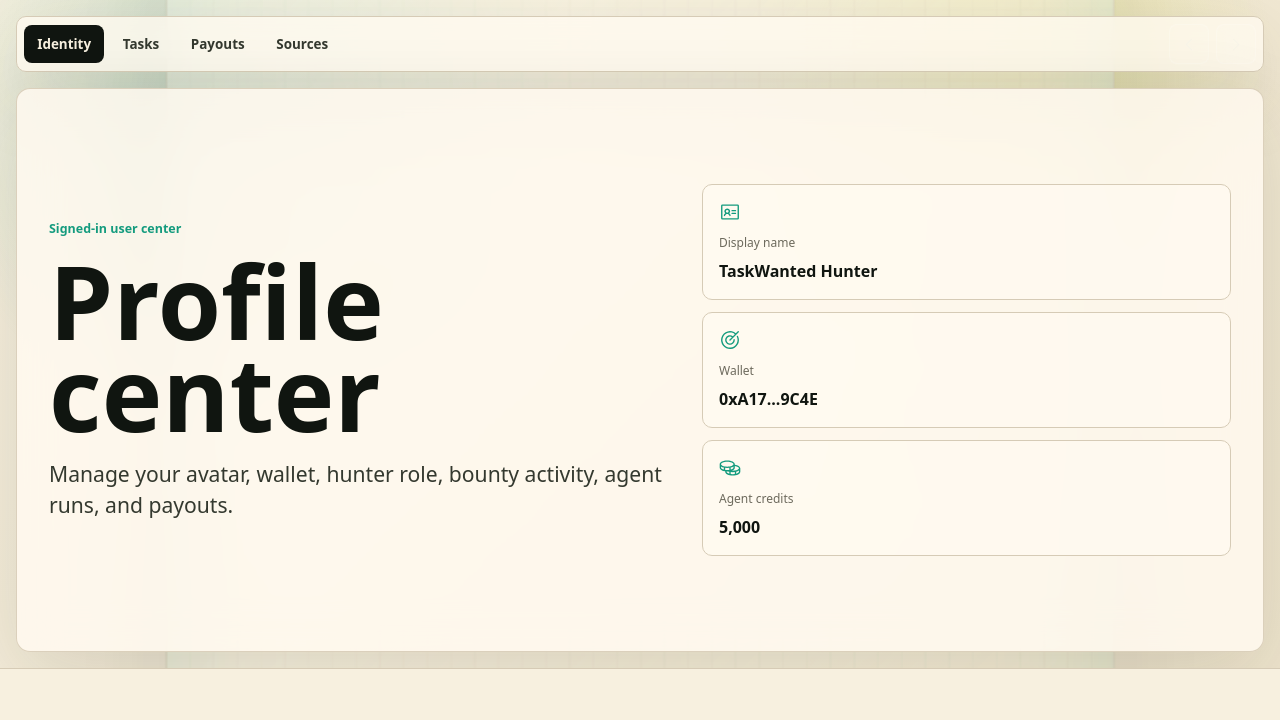
it: Profile page › renders the signed-in user center with task and agent records
This screenshot has width=1280, height=720.
Expected: the heading "Profile center" is shown, x1=49 y1=231 x2=384 y2=462
Step 1. Click the tab "Tasks" → coordinates (141, 44), box x1=110 y1=25 x2=172 y2=63
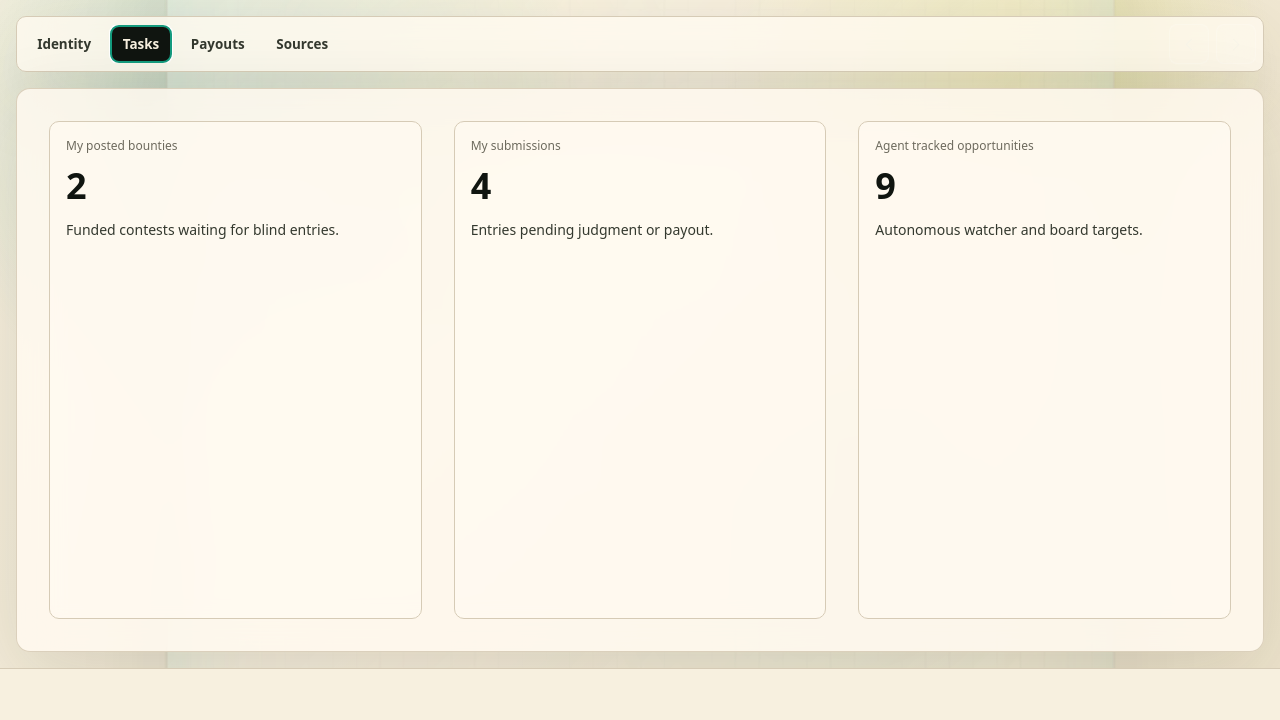
Expected: the text "My posted bounties" is shown, x1=66 y1=137 x2=178 y2=154
Expected: the text "Agent tracked opportunities" is shown, x1=875 y1=137 x2=1034 y2=154
Step 2. Click the tab "Payouts" → coordinates (218, 44), box x1=178 y1=25 x2=258 y2=63
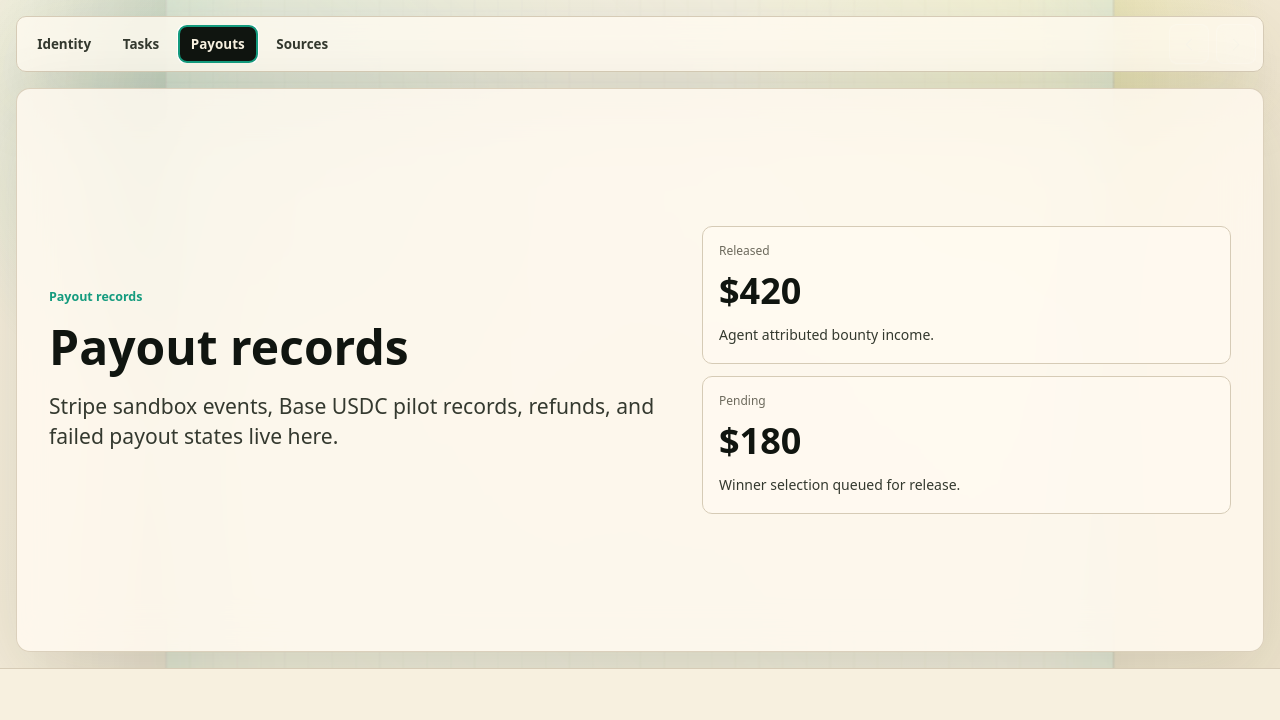
Expected: the heading "Payout records" is shown, x1=49 y1=314 x2=409 y2=379
Step 3. Click the tab "Sources" → coordinates (302, 44), box x1=263 y1=25 x2=341 y2=63
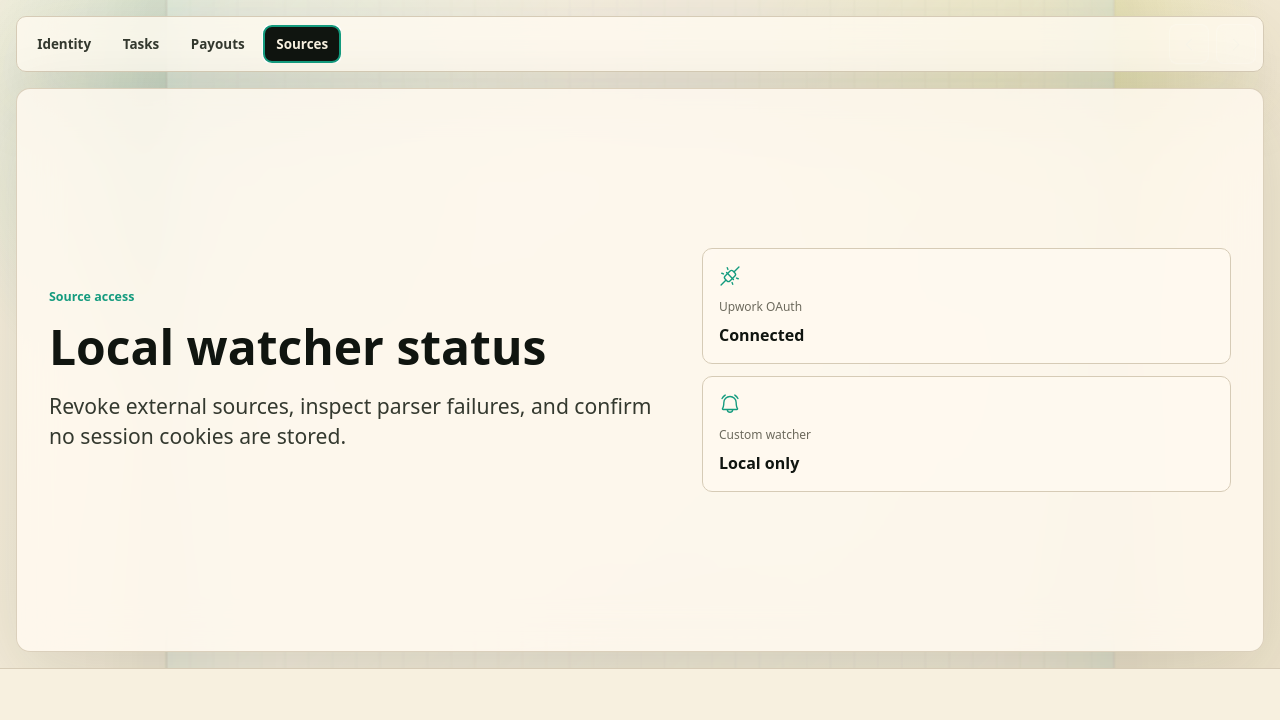
Expected: the heading "Local watcher status" is shown, x1=49 y1=314 x2=546 y2=379
